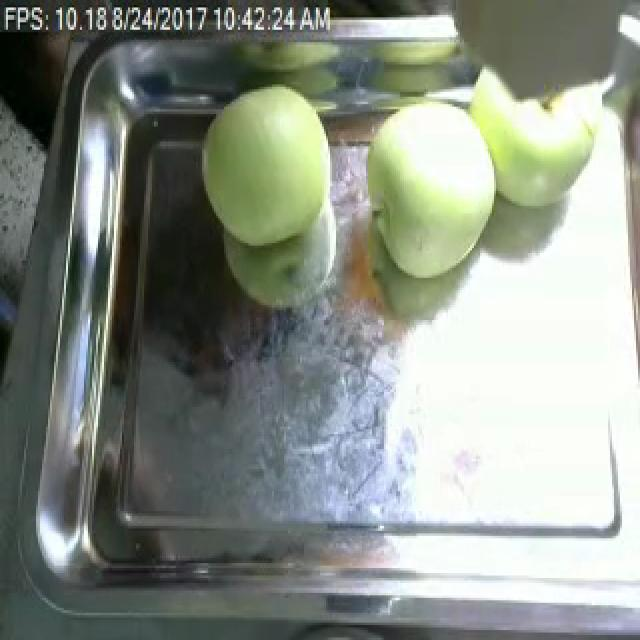50-_ripeness: (357, 101, 506, 286), (204, 79, 336, 252)
